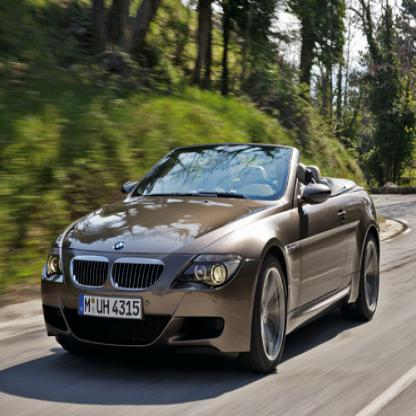Vehicle: (41, 146, 381, 376)
